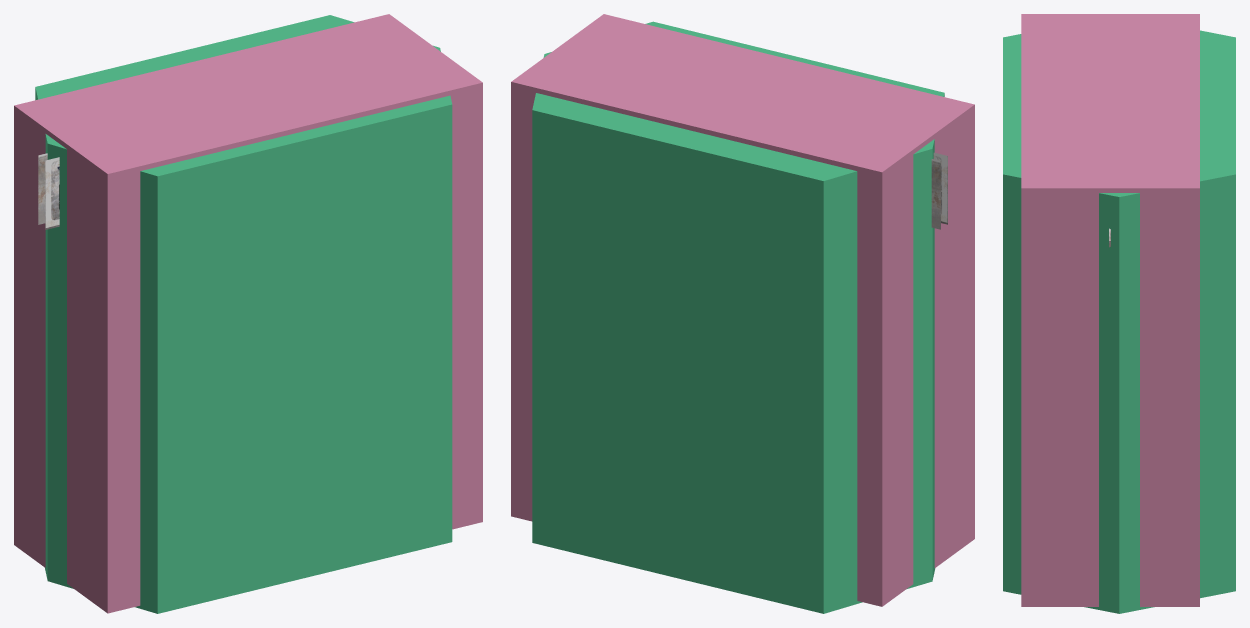
File: billboards_03_a.dae
3 views of the same model, side by side, from view 1: azimuth 30°, elevation 25°; view 2: azimuth 150°, elevation 25°; view 3: azimuth 270°, elevation 25° (orthographic). The views are drawn at different scales.
Parts seen in each view (by area): view 1: Colmesh-1, Untitled, tree_oak_bush_a10; view 2: Colmesh-1, Untitled, tree_oak_bush_a10; view 3: Untitled, Colmesh-1.
Boxes of the visible parts, <box> form: Colmesh-1: <box>35,15,452,613</box>; Untitled: <box>14,14,482,613</box>; tree_oak_bush_a10: <box>38,153,59,229</box>; Colmesh-1: <box>532,21,944,613</box>; Untitled: <box>511,14,974,606</box>; tree_oak_bush_a10: <box>931,152,947,229</box>; Untitled: <box>1021,14,1199,606</box>; Colmesh-1: <box>1003,30,1235,613</box>.
Bounding box in the file's own units: 1.27 × 0.6581 × 1.31.
